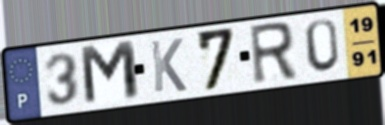0: (302, 17, 342, 75)
3: (42, 50, 81, 108)
7: (194, 26, 237, 94)
K: (148, 36, 189, 95)
M: (77, 38, 143, 109)
R: (247, 19, 300, 88)
